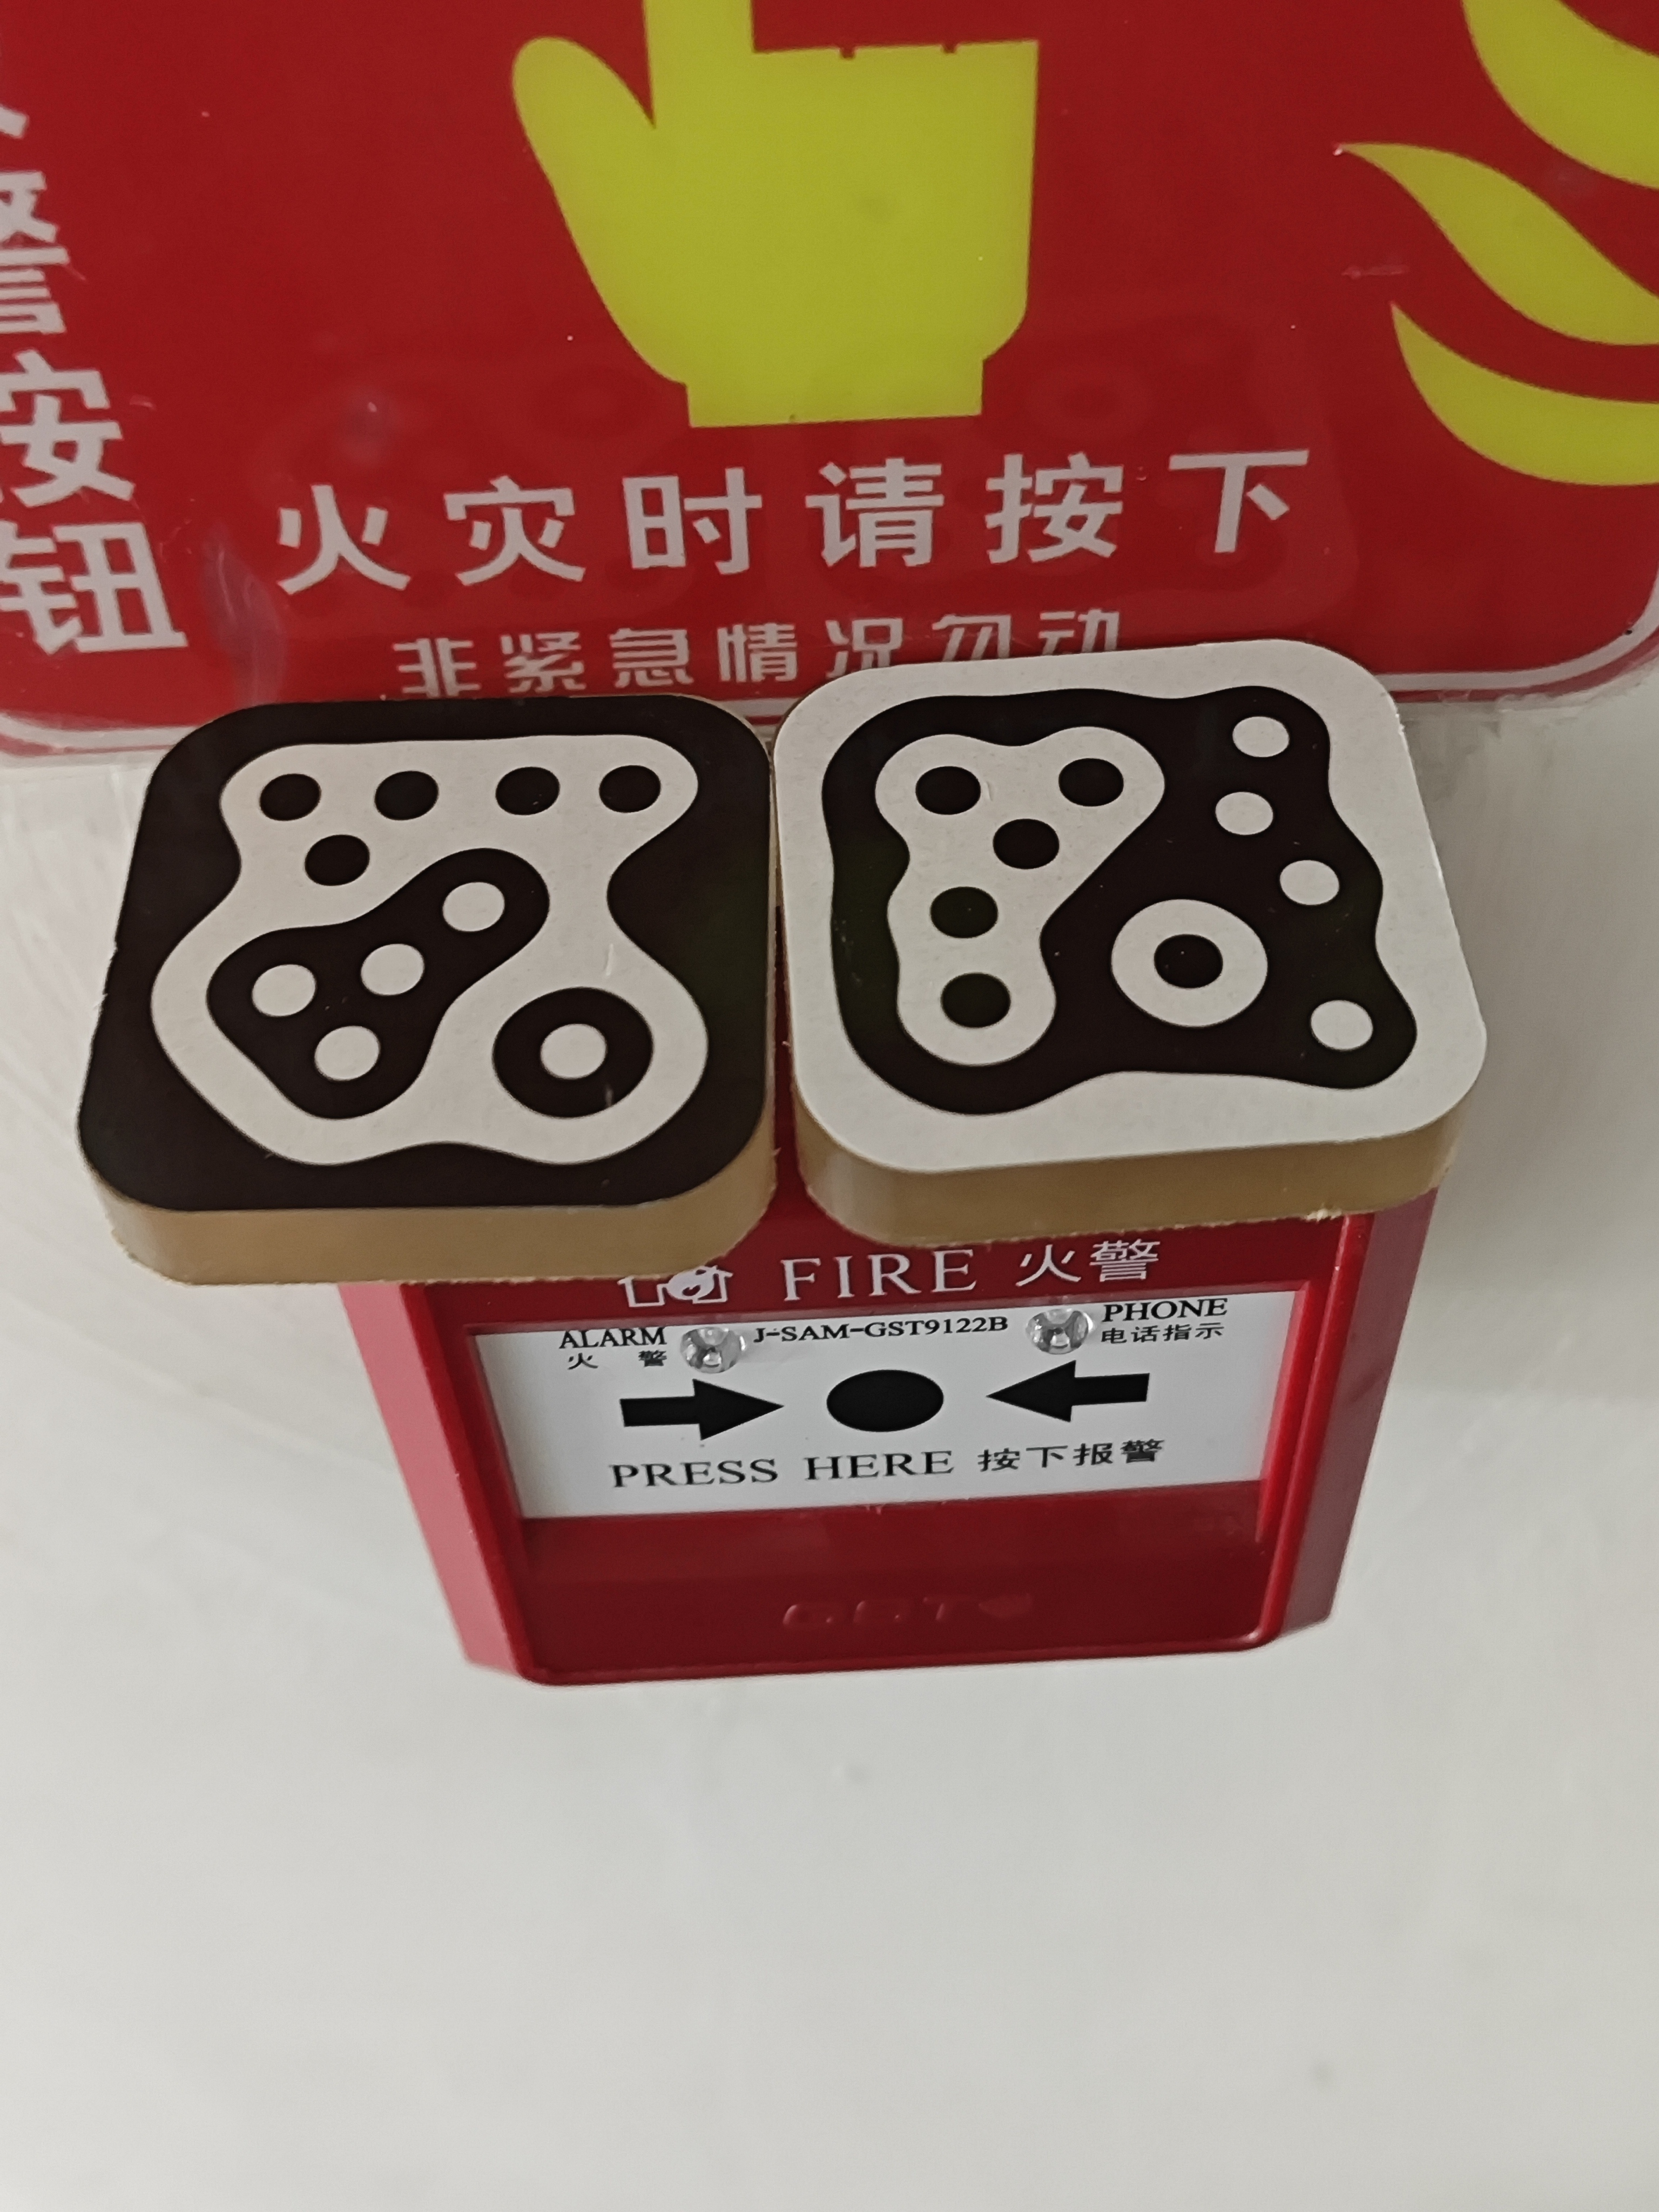mark1: (814, 686, 1415, 1116)
mark2: (152, 732, 713, 1169)
